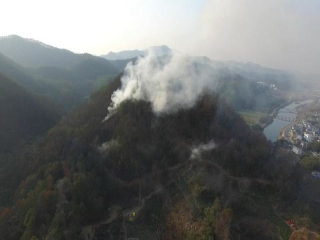smoke: (100, 10, 247, 129)
